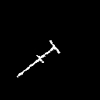double_crochet: (17, 41, 59, 76)
